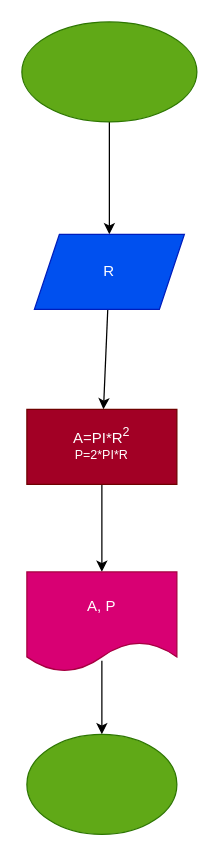
Some shapes in this 219 by 856 pixel diagram are drawn without their labels. The box of each missing label's shape, as (x1, y1, x2, y2) in pixels:
FIN: (26, 733, 177, 834)
INICIO: (21, 21, 197, 122)
